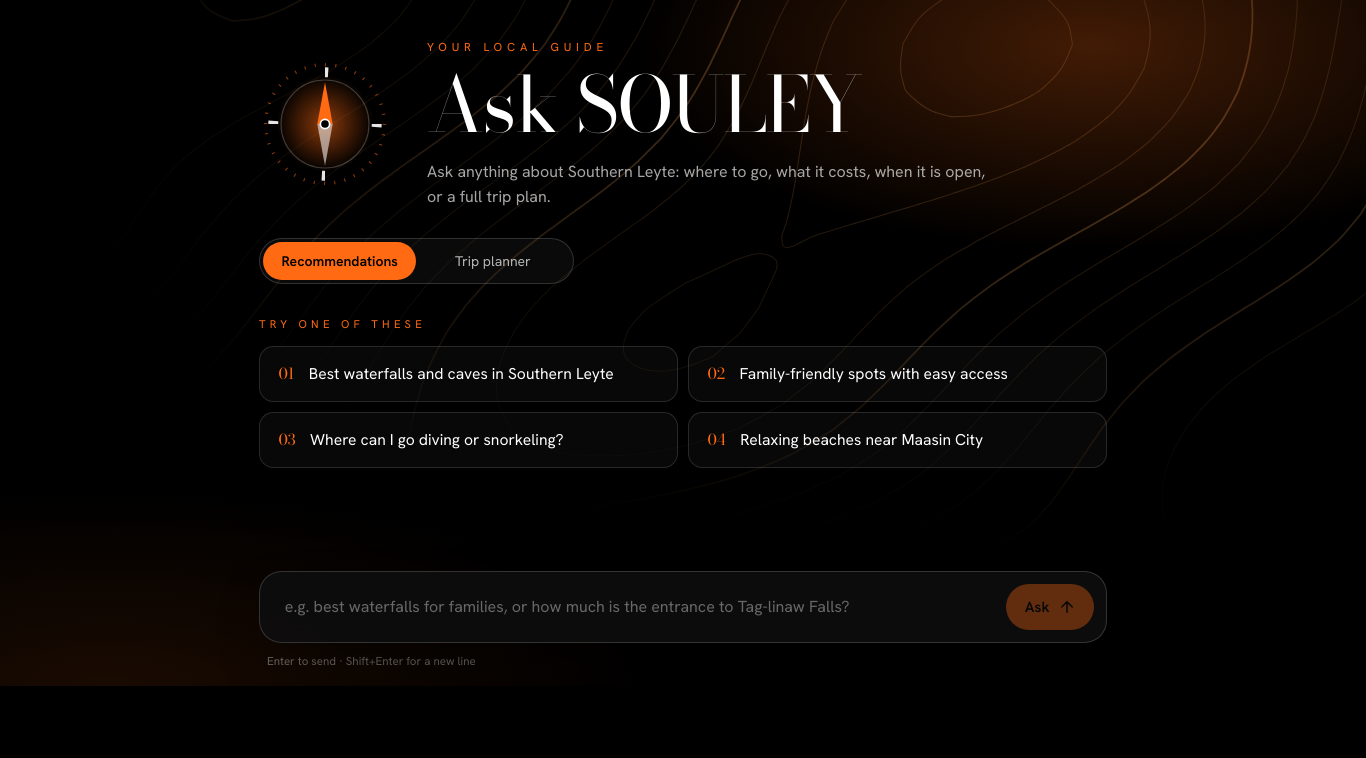
it: Ask page › an answer from the spot database says so, instead of blaming a missing AI model; chat lines carry no note
Type "waterfalls" into the text box named "your question" at (633, 607), box [272,585,994,630]
Then press Enter
(page scrolled)
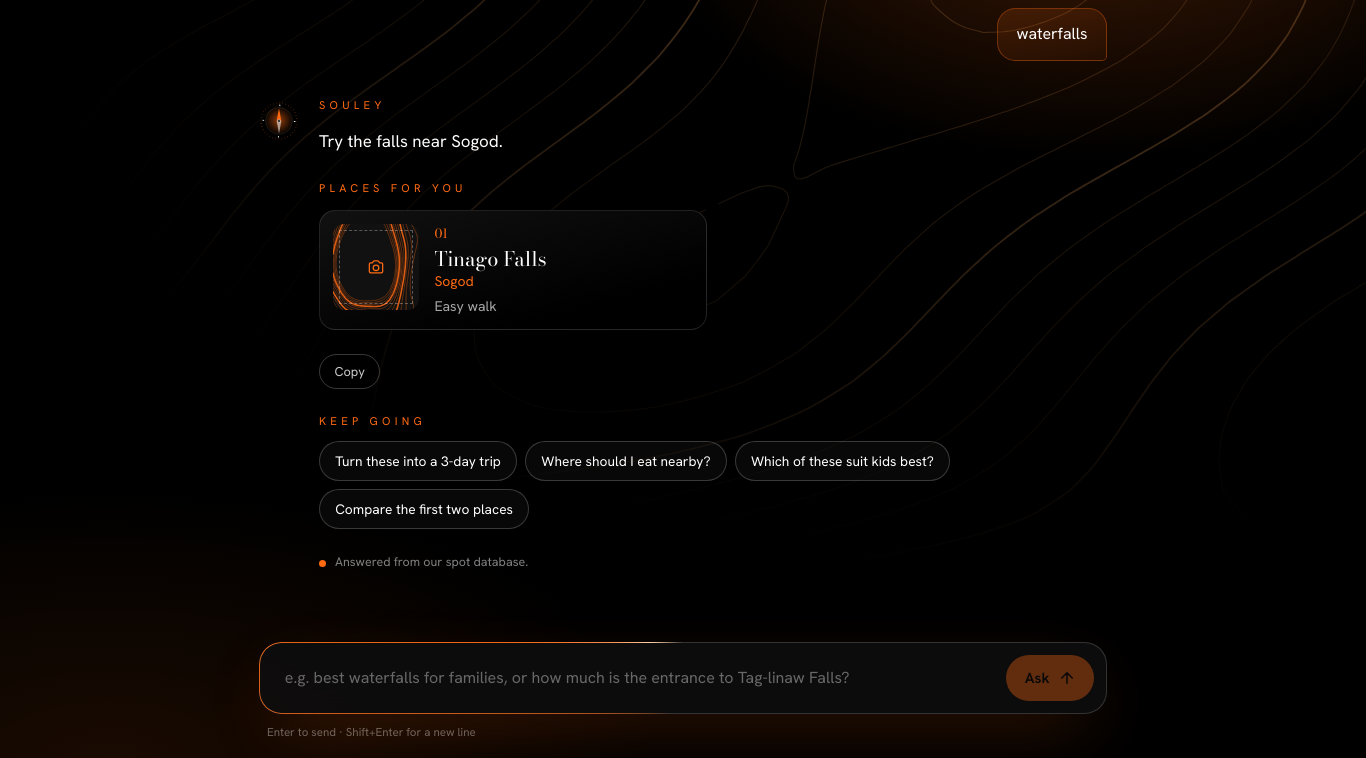
expect the text "Answered from our spot database." is shown: met, box [319,554,528,570]
Type "hello there" into the text box named "your question" at (633, 679), box [272,656,994,701]
Then press Enter
(page scrolled)
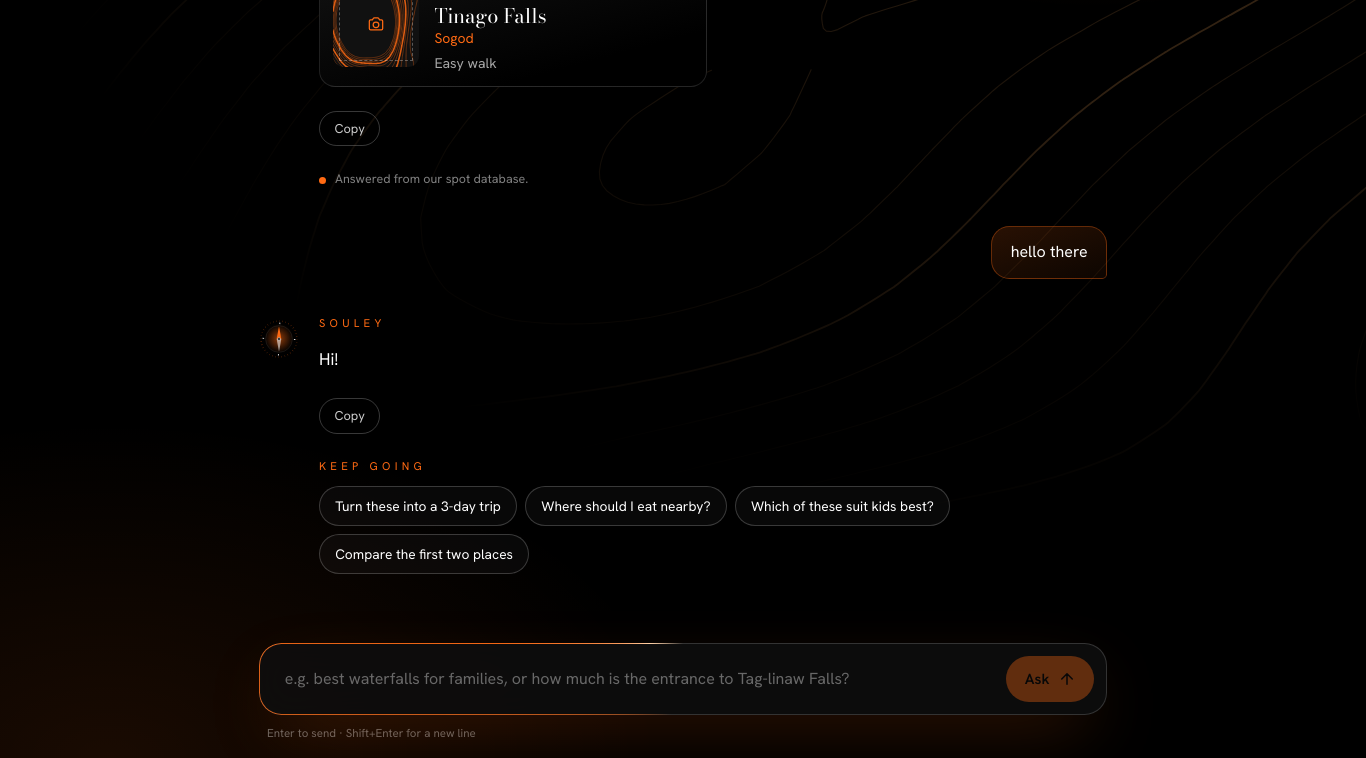
expect the text "Answered from our spot database." is shown once: met, box [319,171,528,187]
expect the text "Hi!" is shown: met, box [319,348,338,370]
